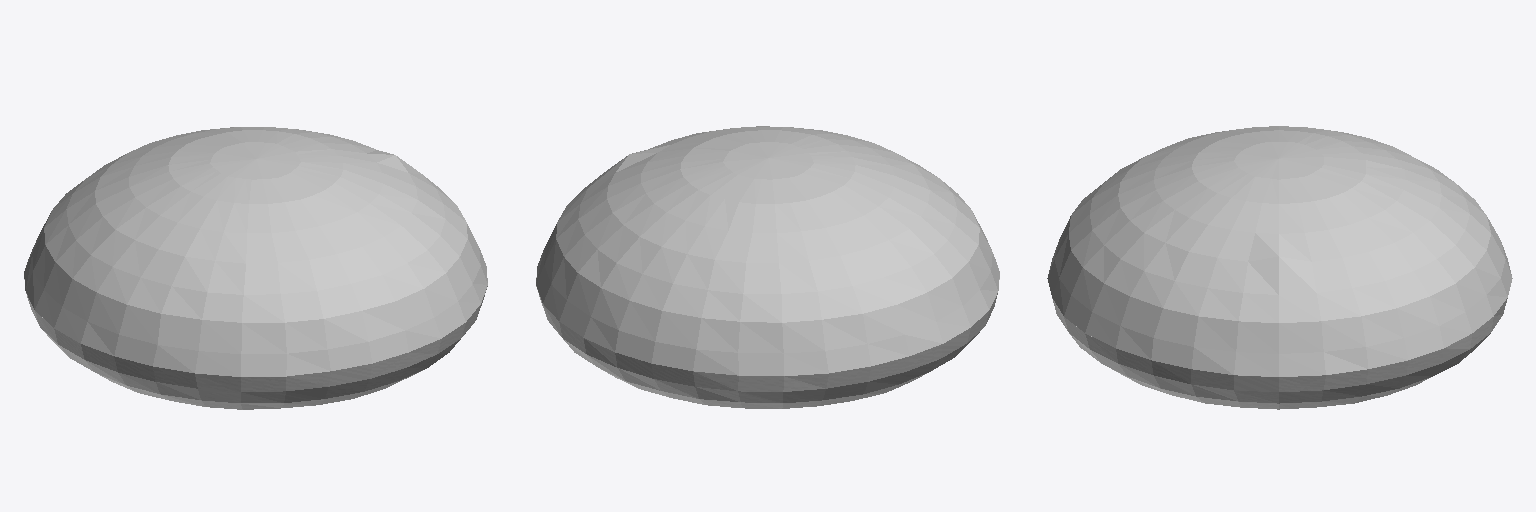
The model's file is Lens_L_extracted.obj.
3 renders of one model, left to right at view 1: azimuth 30°, elevation 25°; view 2: azimuth 150°, elevation 25°; view 3: azimuth 270°, elevation 25°, orthographic.
Parts seen in each view (by area): view 1: Lens_L; view 2: Lens_L; view 3: Lens_L.
Part boxes in pixels (bbox=[...]): Lens_L: bbox=[24, 127, 487, 409]; Lens_L: bbox=[536, 126, 999, 408]; Lens_L: bbox=[1047, 126, 1512, 409].
Size of the model in its own units: 0.0099 by 0.0045 by 0.0098.